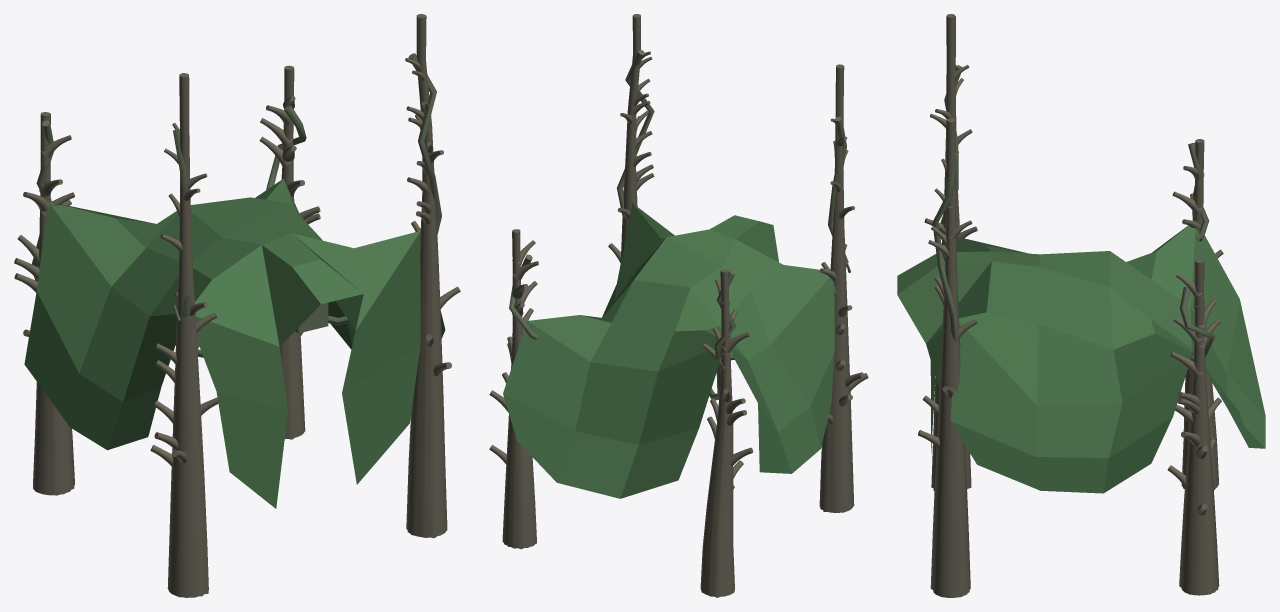
Rendered from S_VineGolem_01.fbx.
3 views of the same model, side by side, from view 1: azimuth 30°, elevation 25°; view 2: azimuth 150°, elevation 25°; view 3: azimuth 270°, elevation 25° (orthographic). The views are drawn at different scales.
Parts seen in each view (by area): view 1: VineCanopy, TreeLimbs, Vines; view 2: VineCanopy, TreeLimbs, Vines; view 3: VineCanopy, TreeLimbs, Vines.
Part boxes in pixels (left/top/right/bottom): VineCanopy: left=24, top=178, right=445, bottom=508; TreeLimbs: left=14, top=14, right=460, bottom=597; Vines: left=36, top=53, right=441, bottom=357; VineCanopy: left=503, top=203, right=834, bottom=498; TreeLimbs: left=489, top=14, right=868, bottom=597; Vines: left=509, top=50, right=850, bottom=400; VineCanopy: left=897, top=220, right=1265, bottom=493; TreeLimbs: left=918, top=14, right=1223, bottom=597; Vines: left=932, top=65, right=1215, bottom=369.
Bounding box in the file's own units: 1294 × 2085 × 1484.
